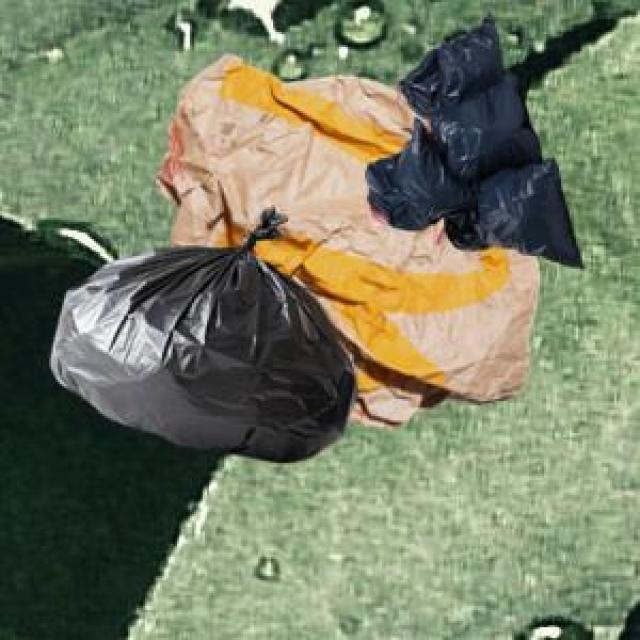miscellaneous trash: (47, 205, 354, 459), (361, 9, 577, 265)
paper: (152, 49, 536, 422)
